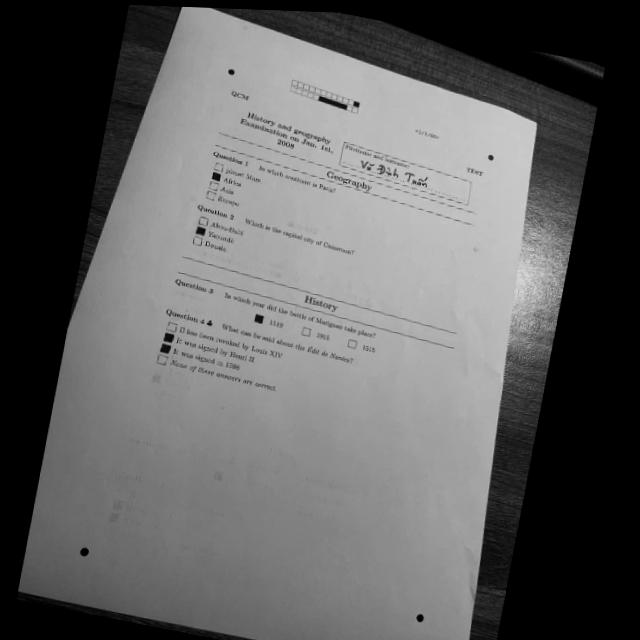Markers: (78, 546, 89, 558), (416, 613, 424, 623), (227, 67, 235, 74), (487, 153, 494, 160)
